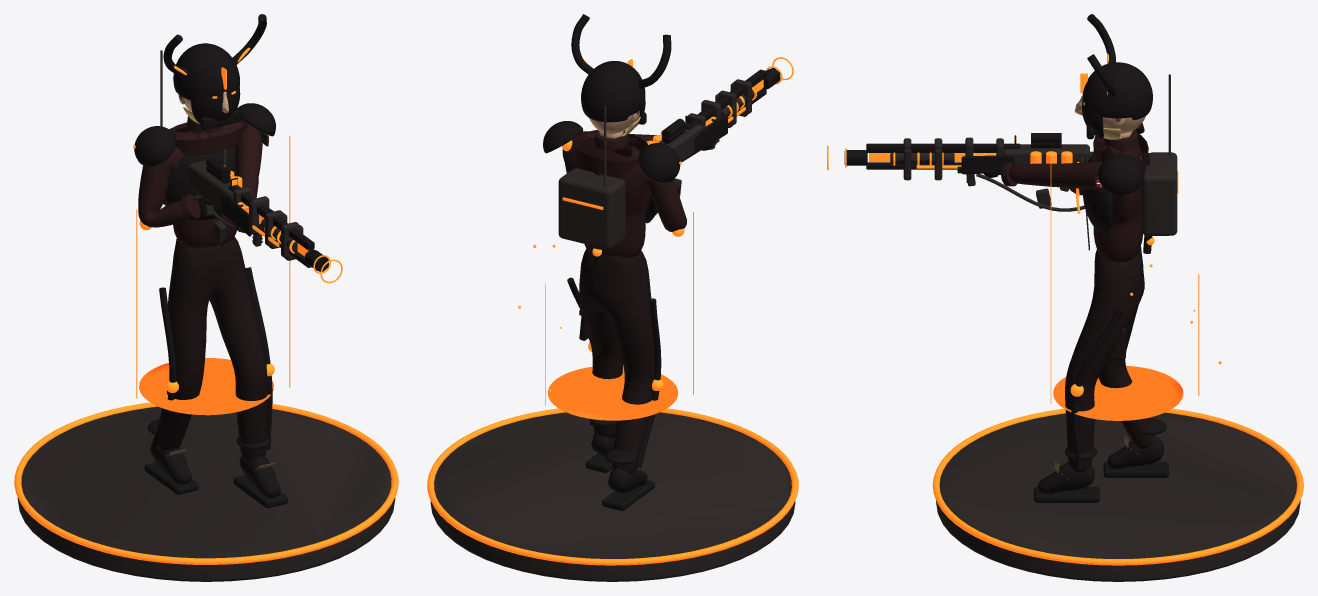
File: skinne_lava.glb
3 renders of one model, left to right at view 1: azimuth 30°, elevation 25°; view 2: azimuth 150°, elevation 25°; view 3: azimuth 270°, elevation 25°, orthographic. The views are drawn at different scales.
Visible parts, largest first — view 1: fod_net, menneske_net, hoved_net, op4.002_net, vaaben_net, op4_net, op3.001_net, op1_net, op2.001_net, ned1_net, op4.001_net; view 2: fod_net, menneske_net, op4_net, hoved_net, op4.002_net, op3.001_net, op1_net, vaaben_net, ned1_net; view 3: fod_net, menneske_net, hoved_net, op4.002_net, vaaben_net, op4_net, op1_net, ned4_net, op3.001_net, op2.001_net, ned1_net.
Part boxes in pixels (bbox=[...]): fod_net: bbox=[14, 402, 398, 581]; menneske_net: bbox=[138, 116, 287, 508]; hoved_net: bbox=[163, 14, 266, 129]; op4.002_net: bbox=[133, 135, 290, 415]; vaaben_net: bbox=[186, 161, 328, 271]; op4_net: bbox=[139, 221, 274, 449]; op3.001_net: bbox=[134, 50, 275, 164]; op1_net: bbox=[206, 157, 314, 257]; op2.001_net: bbox=[165, 146, 275, 467]; ned1_net: bbox=[206, 166, 314, 260]; op4.001_net: bbox=[252, 225, 342, 283]; fod_net: bbox=[427, 408, 798, 581]; menneske_net: bbox=[562, 130, 719, 510]; op4_net: bbox=[558, 140, 684, 468]; hoved_net: bbox=[571, 14, 671, 136]; op4.002_net: bbox=[518, 161, 693, 420]; op3.001_net: bbox=[543, 105, 680, 186]; op1_net: bbox=[661, 69, 766, 138]; vaaben_net: bbox=[646, 68, 780, 161]; ned1_net: bbox=[661, 74, 766, 161]; fod_net: bbox=[932, 408, 1303, 581]; menneske_net: bbox=[984, 130, 1168, 502]; hoved_net: bbox=[1074, 14, 1152, 139]; op4.002_net: bbox=[1050, 160, 1221, 420]; vaaben_net: bbox=[844, 138, 1124, 191]; op4_net: bbox=[1070, 152, 1178, 468]; op1_net: bbox=[866, 133, 1085, 211]; ned4_net: bbox=[1142, 153, 1169, 235]; op3.001_net: bbox=[1098, 74, 1170, 187]; op2.001_net: bbox=[1054, 145, 1125, 470]; ned1_net: bbox=[866, 137, 1061, 180].
Bounding box in the file's own units: 1.94 × 2.71 × 2.49.
